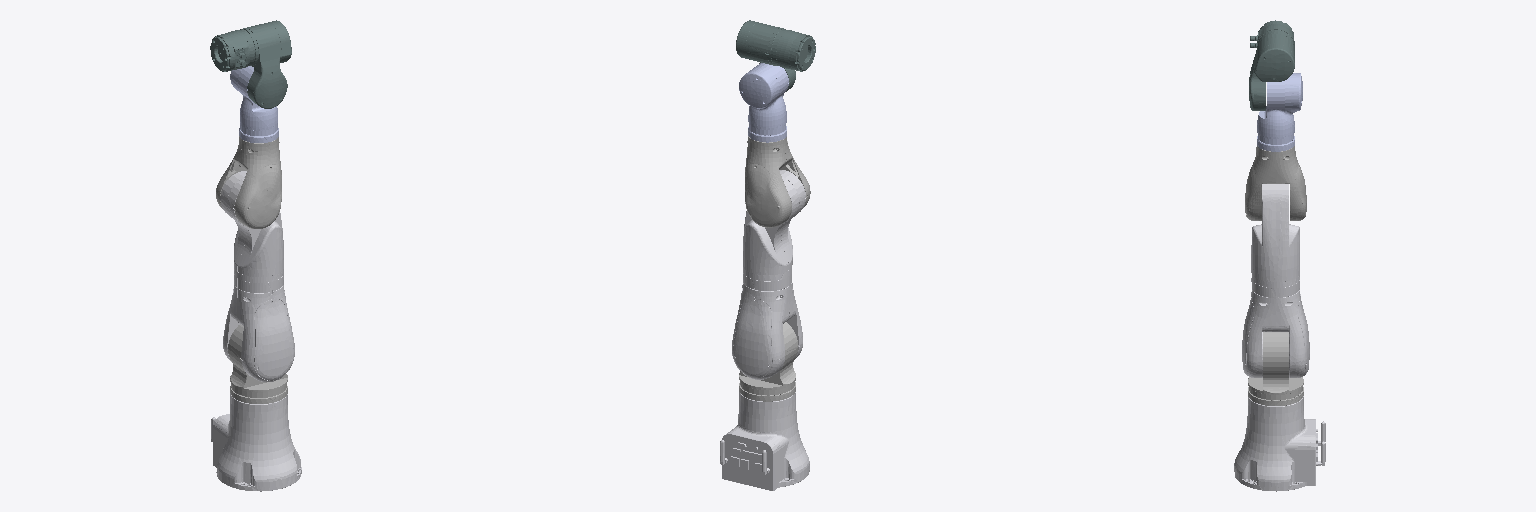
URDF robot description (1.0.20032584_BR-R63-C):
<?xml version="1.0" encoding="utf-8"?>
<!-- This URDF was automatically created by SolidWorks to URDF Exporter! Originally created by Stephen Brawner (brawner@gmail.com) 
     Commit Version: 1.6.0-4-g7f85cfe  Build Version: 1.6.7995.38578
     For more information, please see http://wiki.ros.org/sw_urdf_exporter -->
<robot
  name="1.0.20032584_BR-R63-C">
  <link
    name="base_link_J0">
    <inertial>
      <origin
        xyz="1.31129545862566E-05 0.00624320674222937 0.0648459959143486"
        rpy="0 0 0" />
      <mass
        value="5.11367231008012" />
      <inertia
        ixx="0.0154294924057261"
        ixy="1.04612518139599E-06"
        ixz="2.77343124305123E-06"
        iyy="0.0140633742391357"
        iyz="0.000263729422994923"
        izz="0.0115497793788144" />
    </inertial>
    <visual>
      <origin
        xyz="0 0 0"
        rpy="0 0 0" />
      <geometry>
        <mesh
          filename="../meshes/base_link_J0.STL" />
      </geometry>
      <material
        name="">
        <color
          rgba="0.866666666666667 0.866666666666667 0.890196078431372 1" />
      </material>
    </visual>
    <collision>
      <origin
        xyz="0 0 0"
        rpy="0 0 0" />
      <geometry>
        <mesh
          filename="../meshes/base_link_J0.STL" />
      </geometry>
    </collision>
  </link>
  <link
    name="LINK_01">
    <inertial>
      <origin
        xyz="2.57731612598676E-06 2.62360607890483E-06 -0.017250116288843"
        rpy="0 0 0" />
      <mass
        value="0.545547641959347" />
      <inertia
        ixx="0.000850495641851397"
        ixy="1.56790587486644E-08"
        ixz="7.27261654737723E-09"
        iyy="0.00107022582098388"
        iyz="5.85765652525478E-08"
        izz="0.000547471002685907" />
    </inertial>
    <visual>
      <origin
        xyz="0 0 0"
        rpy="0 0 0" />
      <geometry>
        <mesh
          filename="../meshes/LINK_01.STL" />
      </geometry>
      <material
        name="">
        <color
          rgba="0.752941176470588 0.752941176470588 0.752941176470588 1" />
      </material>
    </visual>
    <collision>
      <origin
        xyz="0 0 0"
        rpy="0 0 0" />
      <geometry>
        <mesh
          filename="../meshes/LINK_01.STL" />
      </geometry>
    </collision>
  </link>
  <joint
    name="J1"
    type="revolute">
    <origin
      xyz="0 0 0.251"
      rpy="0 0 0" />
    <parent
      link="base_link_J0" />
    <child
      link="LINK_01" />
    <axis
      xyz="0 0 1" />
    <limit
      lower="-3.1416"
      upper="3.1416"
      effort="120"
      velocity="3.1416" />
  </joint>
  <link
    name="LINK_02">
    <inertial>
      <origin
        xyz="0.134168867998439 -0.00765923358695719 -2.35771739795171E-05"
        rpy="0 0 0" />
      <mass
        value="6.00674349984483" />
      <inertia
        ixx="0.0082863329092552"
        ixy="-0.00031243787213497"
        ixz="-5.37048185354367E-05"
        iyy="0.0230337573976679"
        iyz="8.41038639704011E-06"
        izz="0.0215383652660056" />
    </inertial>
    <visual>
      <origin
        xyz="0 0 0"
        rpy="0 0 0" />
      <geometry>
        <mesh
          filename="../meshes/LINK_02.STL" />
      </geometry>
      <material
        name="">
        <color
          rgba="0.866666666666667 0.866666666666667 0.890196078431372 1" />
      </material>
    </visual>
    <collision>
      <origin
        xyz="0 0 0"
        rpy="0 0 0" />
      <geometry>
        <mesh
          filename="../meshes/LINK_02.STL" />
      </geometry>
    </collision>
  </link>
  <joint
    name="J2"
    type="revolute">
    <origin
      xyz="0 0 0"
      rpy="-1.5708 -1.4968 -3.1416" />
    <parent
      link="LINK_01" />
    <child
      link="LINK_02" />
    <axis
      xyz="0 0 1" />
    <limit
      lower="-1.745"
      upper="1.745"
      effort="120"
      velocity="3.1416" />
  </joint>
  <link
    name="LINK_03">
    <inertial>
      <origin
        xyz="0.0134664137664401 0.0489938217855354 0.00513651174570332"
        rpy="0 0 0" />
      <mass
        value="0.343760645373497" />
      <inertia
        ixx="0.00102228850569669"
        ixy="-0.000142524529157428"
        ixz="2.31168133439645E-05"
        iyy="0.000493382050723051"
        iyz="8.89314109758022E-05"
        izz="0.000881317627340127" />
    </inertial>
    <visual>
      <origin
        xyz="0 0 0"
        rpy="0 0 0" />
      <geometry>
        <mesh
          filename="../meshes/LINK_03.STL" />
      </geometry>
      <material
        name="">
        <color
          rgba="0.752941176470588 0.752941176470588 0.752941176470588 1" />
      </material>
    </visual>
    <collision>
      <origin
        xyz="0 0 0"
        rpy="0 0 0" />
      <geometry>
        <mesh
          filename="../meshes/LINK_03.STL" />
      </geometry>
    </collision>
  </link>
  <joint
    name="J3"
    type="revolute">
    <origin
      xyz="0.30433 0 0"
      rpy="0 0 -1.6448" />
    <parent
      link="LINK_02" />
    <child
      link="LINK_03" />
    <axis
      xyz="0 0 1" />
    <limit
      lower="-1.134"
      upper="2.705"
      effort="60"
      velocity="3.1416" />
  </joint>
  <link
    name="LINK_04">
    <inertial>
      <origin
        xyz="-2.00820681384228E-06 0.009839340422909 -0.0305017973786149"
        rpy="0 0 0" />
      <mass
        value="0.397379355204458" />
      <inertia
        ixx="0.000703974035477559"
        ixy="6.58750793317907E-08"
        ixz="4.79834308528727E-08"
        iyy="0.00068236021290134"
        iyz="-0.000117380100537368"
        izz="0.000261043036696413" />
    </inertial>
    <visual>
      <origin
        xyz="0 0 0"
        rpy="0 0 0" />
      <geometry>
        <mesh
          filename="../meshes/LINK_04.STL" />
      </geometry>
      <material
        name="">
        <color
          rgba="0.792156862745098 0.819607843137255 0.933333333333333 1" />
      </material>
    </visual>
    <collision>
      <origin
        xyz="0 0 0"
        rpy="0 0 0" />
      <geometry>
        <mesh
          filename="../meshes/LINK_04.STL" />
      </geometry>
    </collision>
  </link>
  <joint
    name="J4"
    type="revolute">
    <origin
      xyz="0.0225 0.2265 0"
      rpy="-1.5708 0 0" />
    <parent
      link="LINK_03" />
    <child
      link="LINK_04" />
    <axis
      xyz="0 0 1" />
    <limit
      lower="-3.1416"
      upper="3.1416"
      effort="30"
      velocity="5.235" />
  </joint>
  <link
    name="LINK_05">
    <inertial>
      <origin
        xyz="0.0544561177985253 -0.0100576741361103 0.0100366129421583"
        rpy="0 0 0" />
      <mass
        value="0.389625659381328" />
      <inertia
        ixx="0.000322641792454441"
        ixy="7.63961344835068E-05"
        ixz="0.00016247336823747"
        iyy="0.000671338410317462"
        iyz="-3.24801726672415E-05"
        izz="0.000658890082044152" />
    </inertial>
    <visual>
      <origin
        xyz="0 0 0"
        rpy="0 0 0" />
      <geometry>
        <mesh
          filename="../meshes/LINK_05.STL" />
      </geometry>
      <material
        name="">
        <color
          rgba="0.466666666666667 0.533333333333333 0.533333333333333 1" />
      </material>
    </visual>
    <collision>
      <origin
        xyz="0 0 0"
        rpy="0 0 0" />
      <geometry>
        <mesh
          filename="../meshes/LINK_05.STL" />
      </geometry>
    </collision>
  </link>
  <joint
    name="J5"
    type="revolute">
    <origin
      xyz="0 0 0"
      rpy="1.5708 -1.5708 0" />
    <parent
      link="LINK_04" />
    <child
      link="LINK_05" />
    <axis
      xyz="0 0 1" />
    <limit
      lower="-1.57"
      upper="1.57"
      effort="30"
      velocity="5.235" />
  </joint>
  <link
    name="LINK_06">
    <inertial>
      <origin
        xyz="-8.29547403746744E-06 -0.000690729342535831 -0.0300719075790923"
        rpy="0 0 0" />
      <mass
        value="0.549117084261032" />
      <inertia
        ixx="0.000297812857113199"
        ixy="5.71381573433515E-08"
        ixz="5.55495528176154E-09"
        iyy="0.000298567878645565"
        iyz="-3.5034887636703E-07"
        izz="0.000312765710479099" />
    </inertial>
    <visual>
      <origin
        xyz="0 0 0"
        rpy="0 0 0" />
      <geometry>
        <mesh
          filename="../meshes/LINK_06.STL" />
      </geometry>
      <material
        name="">
        <color
          rgba="0.466666666666667 0.533333333333333 0.533333333333333 1" />
      </material>
    </visual>
    <collision>
      <origin
        xyz="0 0 0"
        rpy="0 0 0" />
      <geometry>
        <mesh
          filename="../meshes/LINK_06.STL" />
      </geometry>
    </collision>
  </link>
  <joint
    name="J6"
    type="revolute">
    <origin
      xyz="0.075 0.084 0"
      rpy="-1.5708 0 0" />
    <parent
      link="LINK_05" />
    <child
      link="LINK_06" />
    <axis
      xyz="0 0 1" />
    <limit
      lower="-3.1416"
      upper="3.1416"
      effort="30"
      velocity="5.235" />
  </joint>
</robot>

--- Facts derived from the render (not from the file) ---
Views: 3 orthographic renders of the robot side by side, from view 1: azimuth 30°, elevation 25°; view 2: azimuth 150°, elevation 25°; view 3: azimuth 270°, elevation 25°.
Robot: 1.0.20032584_BR-R63-C — 7 links, 6 joints (6 revolute); root link base_link_J0; default pose: every joint at zero.
Links seen in each view (by area): view 1: LINK_02, base_link_J0, LINK_03, LINK_05, LINK_01, LINK_04, LINK_06; view 2: LINK_02, base_link_J0, LINK_03, LINK_04, LINK_01, LINK_06, LINK_05; view 3: LINK_02, base_link_J0, LINK_03, LINK_01, LINK_04, LINK_05, LINK_06.
Boxes of the visible links, <box> form: LINK_02: <box>220,171,294,381</box>; base_link_J0: <box>211,393,301,491</box>; LINK_03: <box>216,136,281,228</box>; LINK_05: <box>247,20,291,108</box>; LINK_01: <box>228,324,287,403</box>; LINK_04: <box>230,66,278,142</box>; LINK_06: <box>210,28,258,71</box>; LINK_02: <box>732,170,805,379</box>; base_link_J0: <box>720,392,809,490</box>; LINK_03: <box>745,136,810,227</box>; LINK_04: <box>739,63,788,142</box>; LINK_01: <box>739,322,797,401</box>; LINK_06: <box>768,28,815,71</box>; LINK_05: <box>736,20,795,91</box>; LINK_02: <box>1242,184,1309,377</box>; base_link_J0: <box>1234,396,1325,491</box>; LINK_03: <box>1245,146,1306,220</box>; LINK_01: <box>1248,332,1303,405</box>; LINK_04: <box>1257,73,1302,151</box>; LINK_05: <box>1249,34,1294,110</box>; LINK_06: <box>1250,20,1294,47</box>.
Bounding box of the posed robot: 0.161 × 0.1689 × 0.891 m (x, y, z).
Meshes: 7 distinct files referenced, 7 mesh visuals loaded (7 binary STL).
